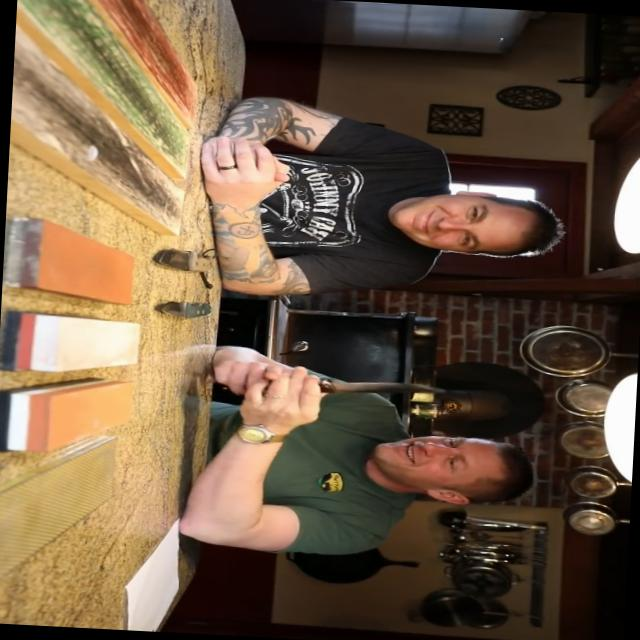knife: (244, 358, 456, 421)
